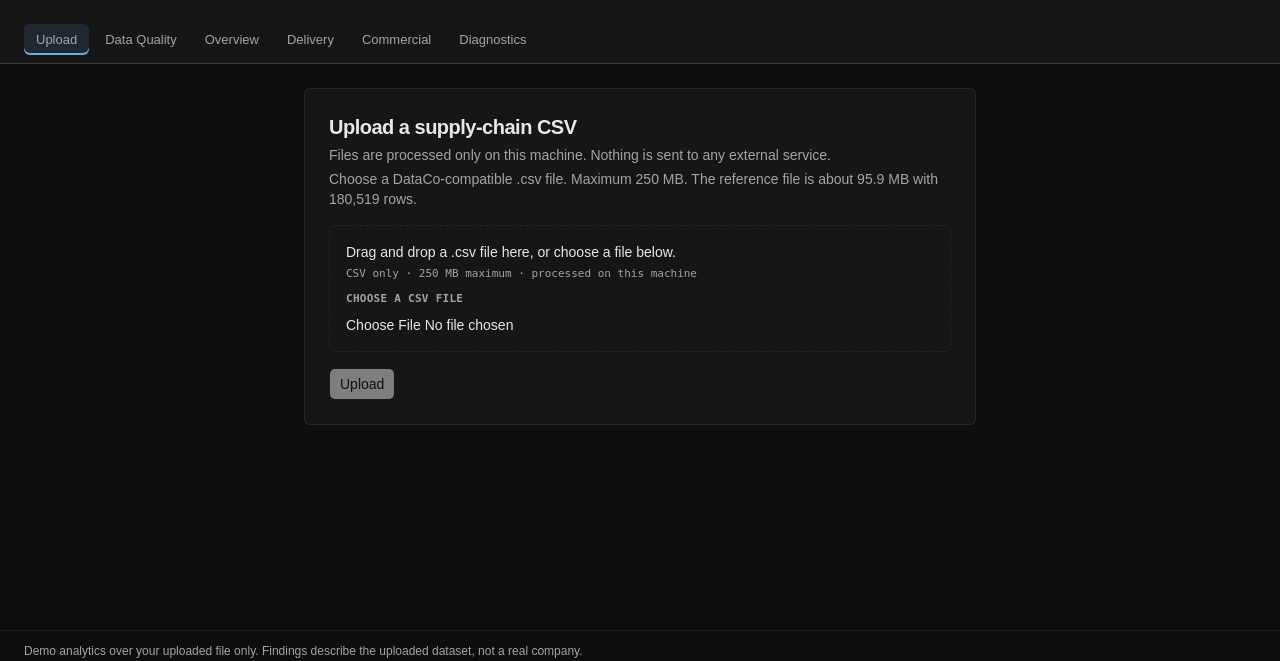
Test case: Phase-15B diagnostics rankings › offers only the four governed shipment dimensions
Click the button "Diagnostics".
click(493, 39)  # box [447,24,538,55]
(page scrolled)
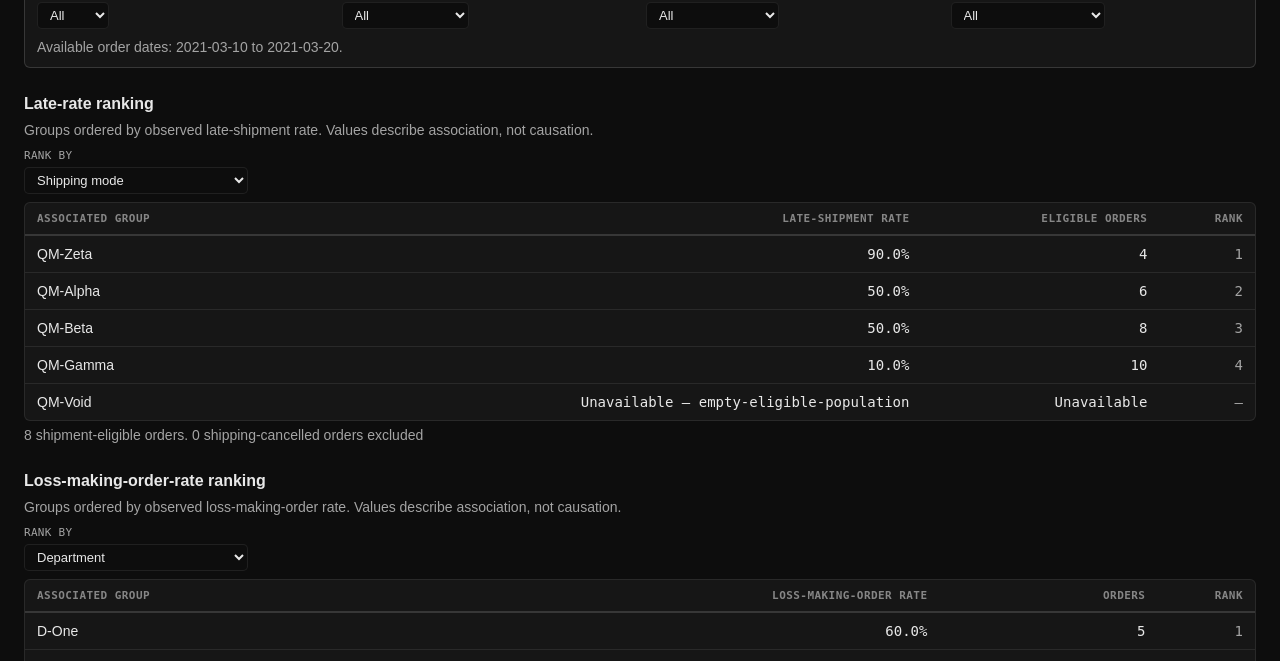
Result: the table named "Associated groups ordered by observed late-shipment rate" is shown at [25,202,1255,420]
